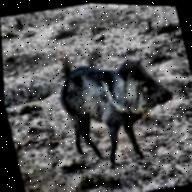boar: (52, 48, 188, 179)
